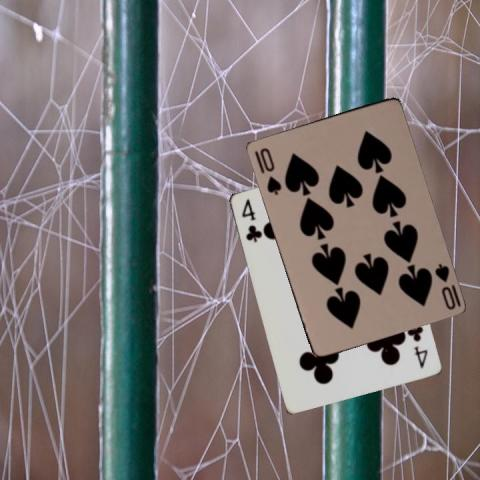10s: (431, 260, 457, 311), (256, 145, 282, 195)
4c: (405, 321, 430, 370), (239, 196, 264, 244)
